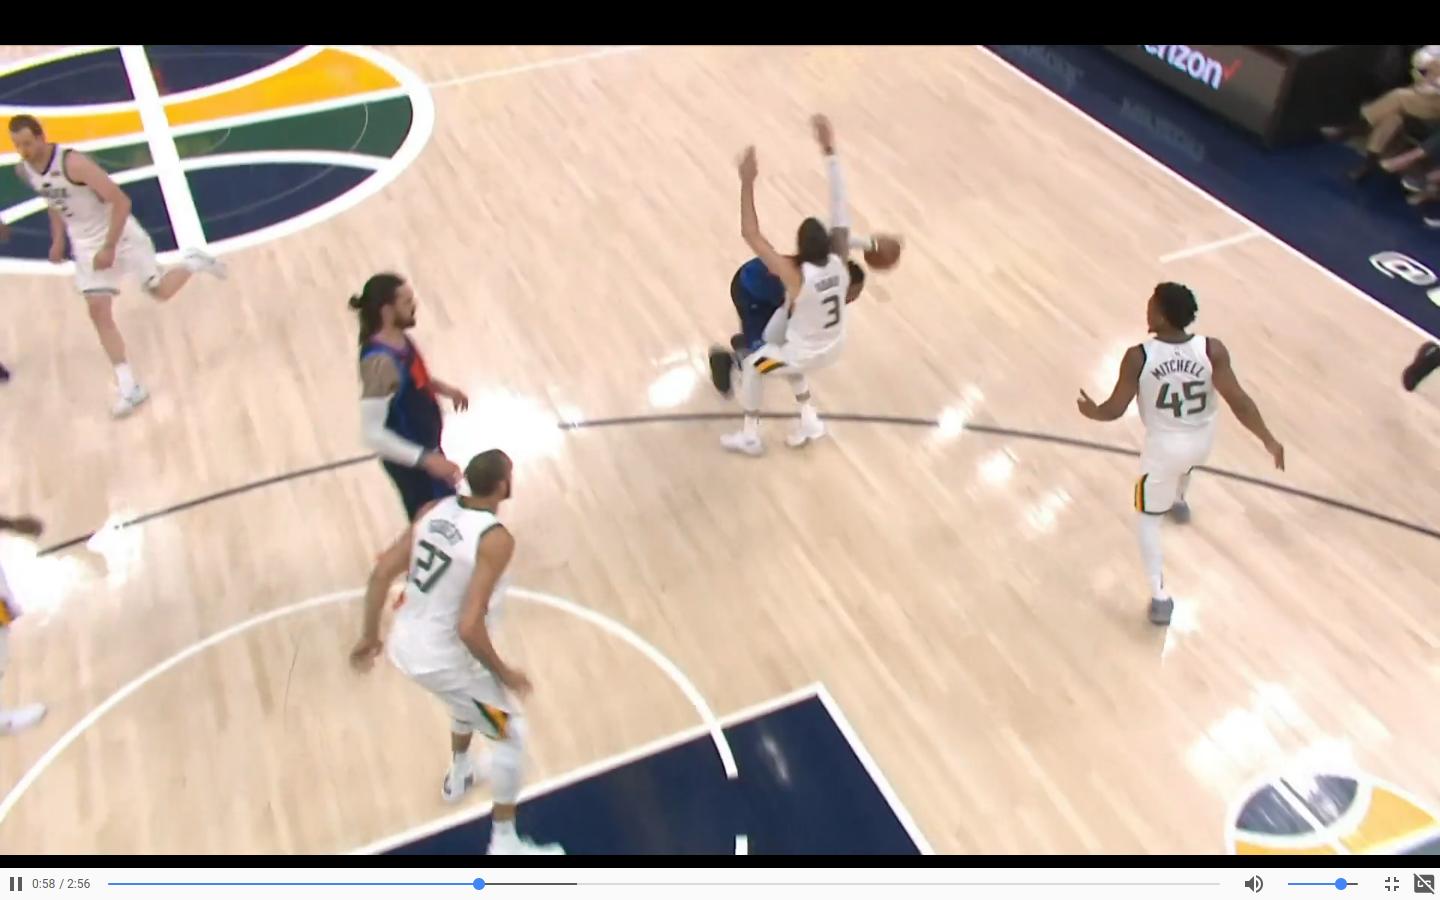basketball: (858, 229, 908, 282)
basketball player: (1058, 280, 1284, 645), (1, 100, 235, 420), (358, 456, 545, 846), (735, 119, 848, 446), (345, 276, 468, 511)
